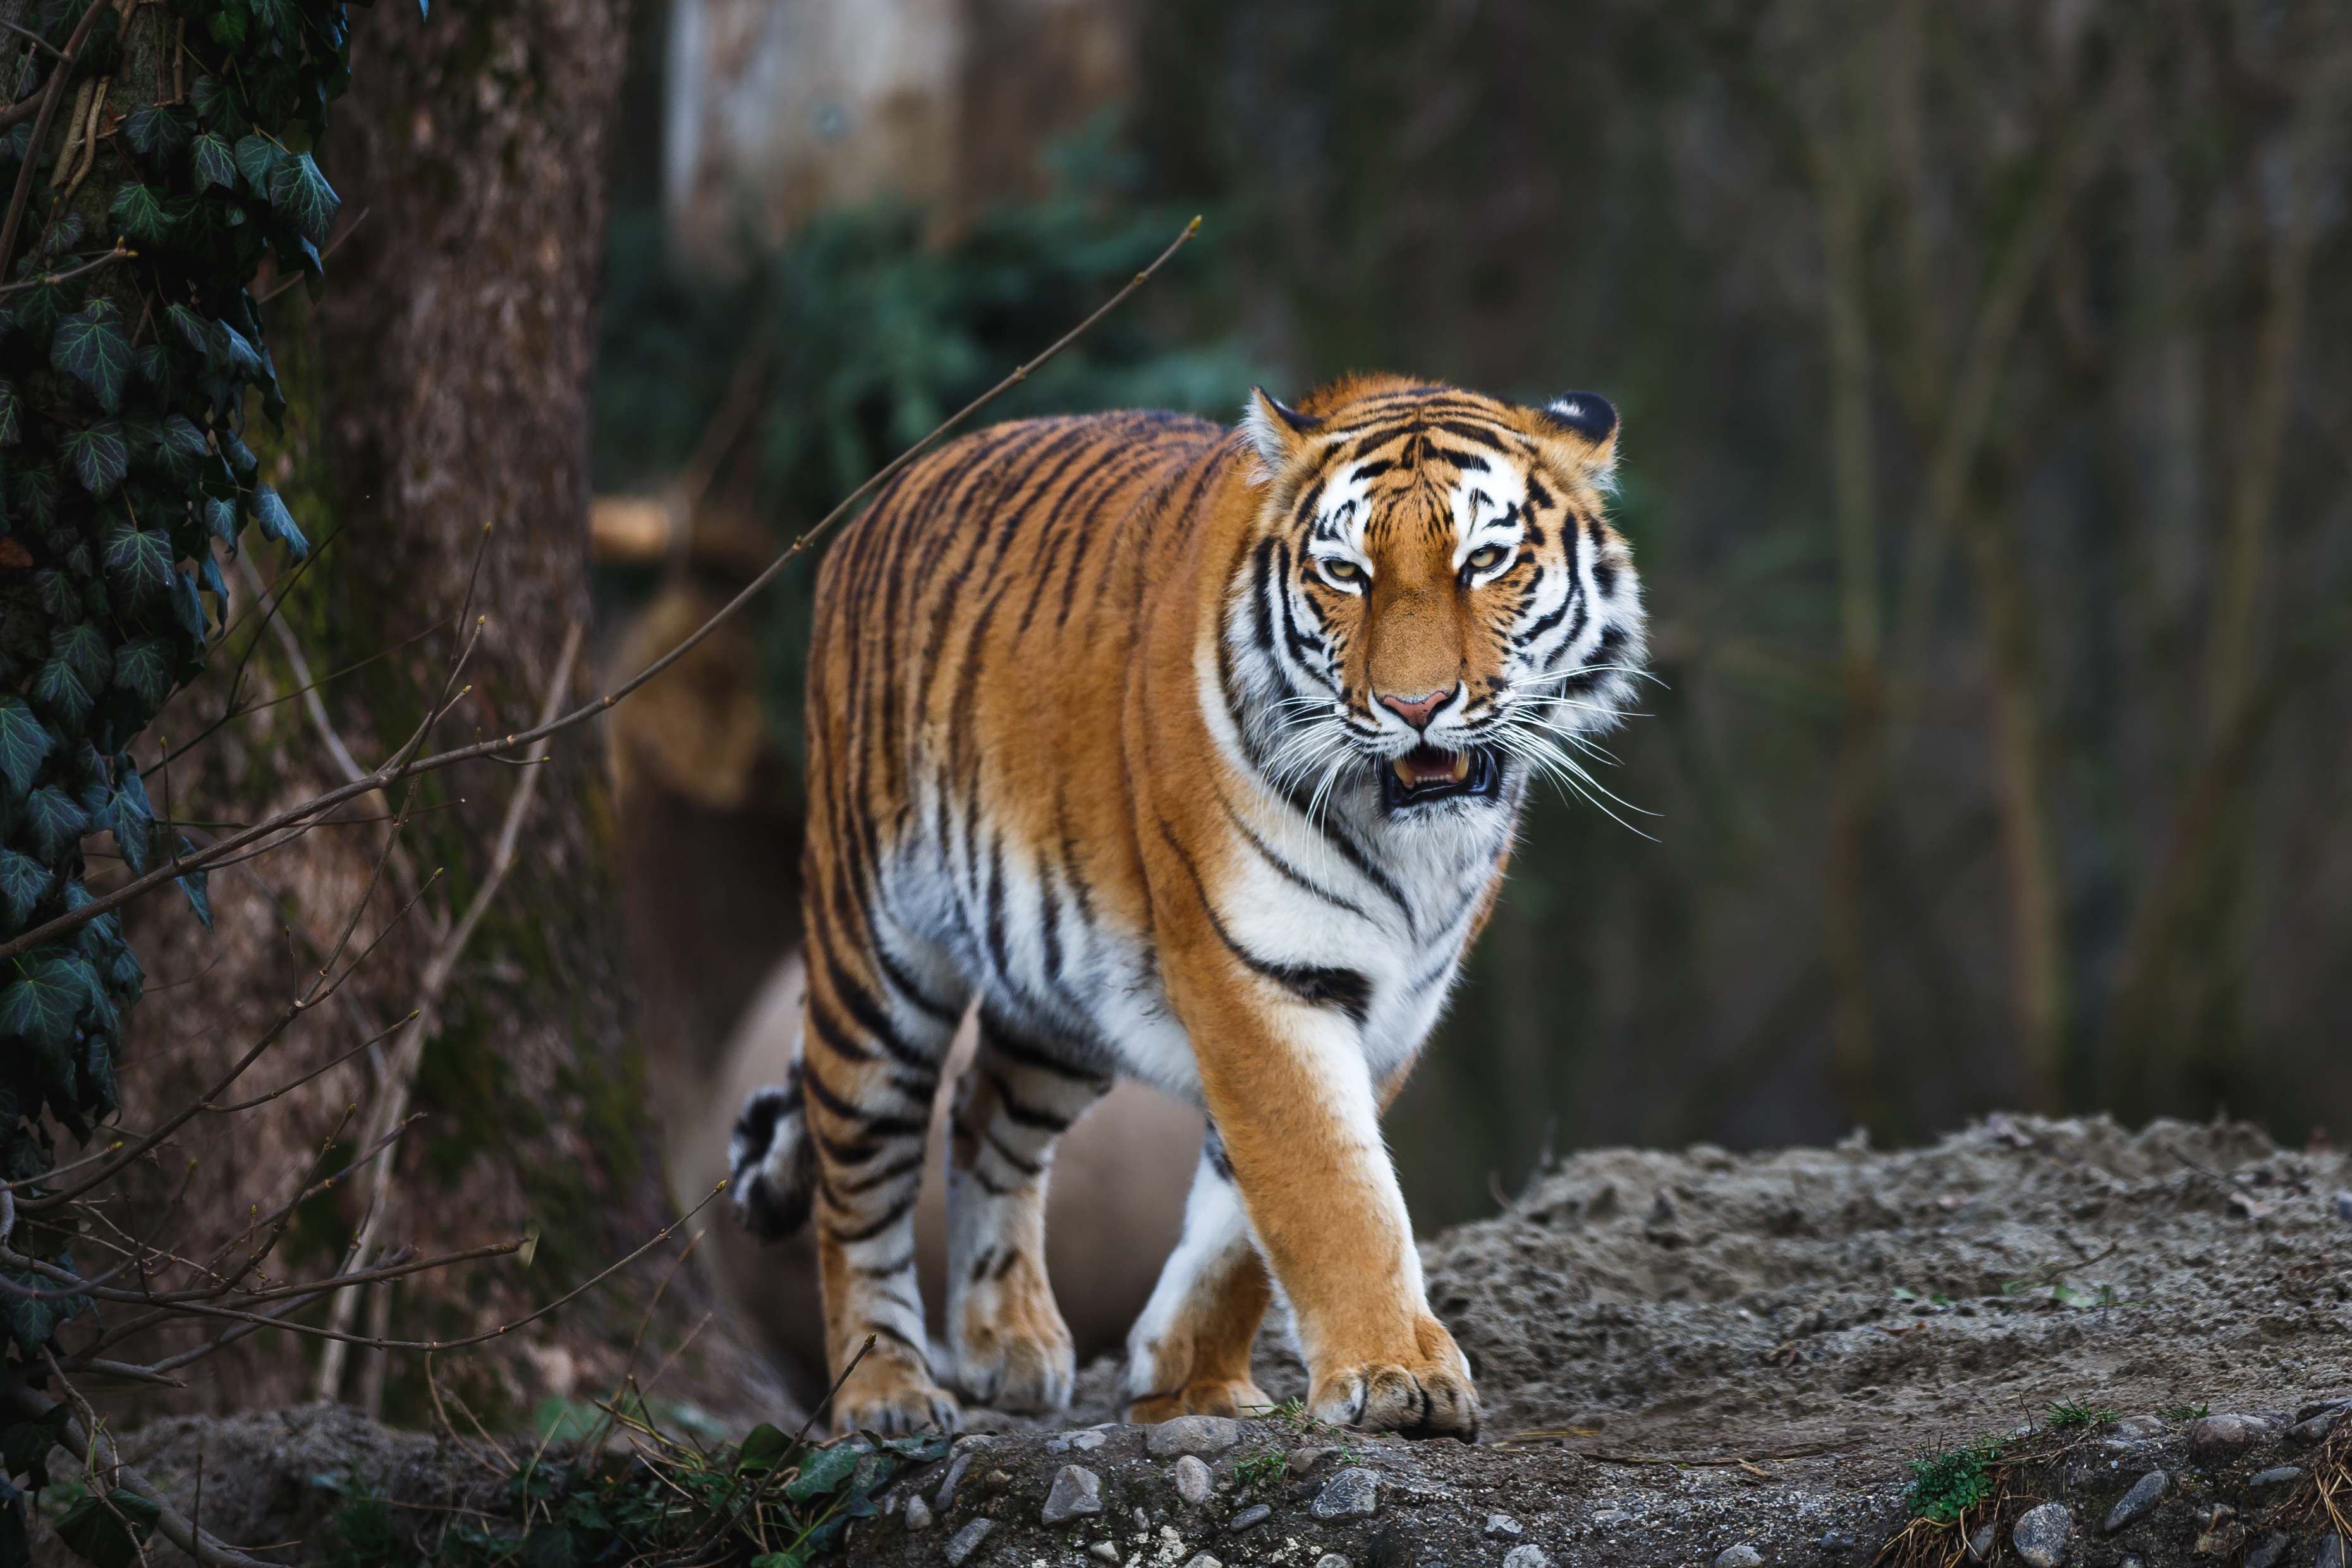tiger: (838, 395, 1710, 1456)
